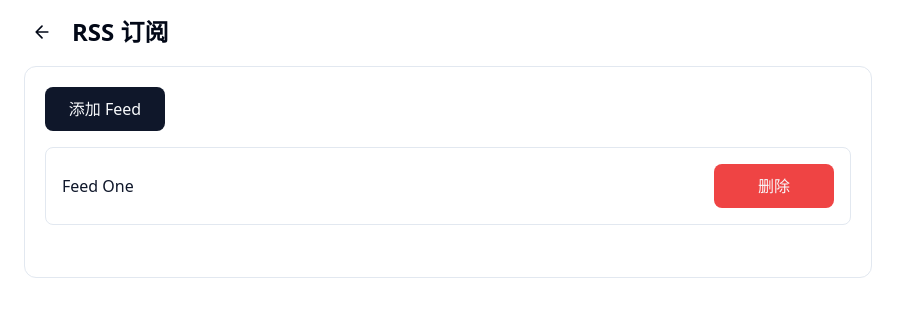
Test case: Article list interaction (S010) › Regression › feed-to-list navigation remains correct
What coordinates should you click on to do the following:
click the link "Feed One"
I would click on:
 (98, 186)
Its box is [62,174,134,198].
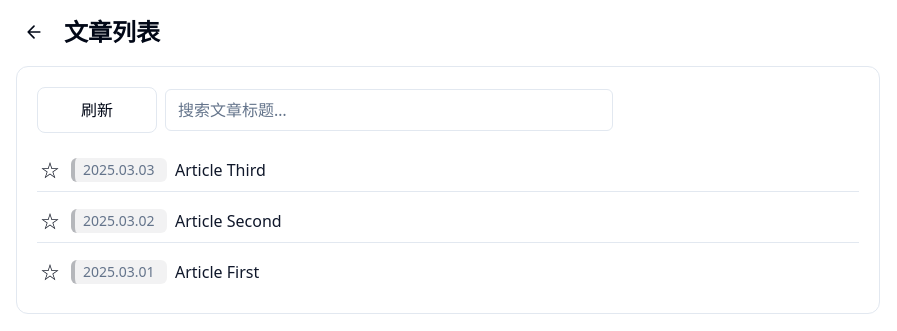
Expected: the heading "文章列表" is shown, [64,16,160,48]
Expected: the link "Article First" is shown, [175,261,259,283]
